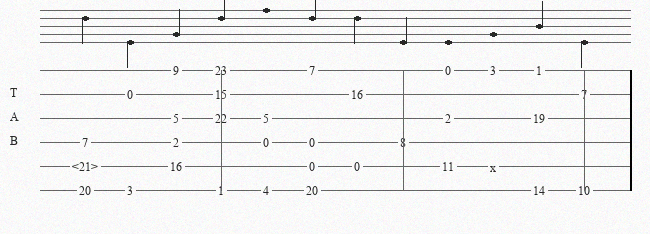0: (127, 88, 137, 101), (263, 136, 273, 149), (309, 160, 319, 173), (309, 136, 319, 149), (354, 160, 364, 173), (445, 64, 455, 77)
1: (218, 184, 228, 197), (536, 64, 546, 77)
10: (578, 184, 594, 197)
11: (442, 160, 458, 173)
14: (533, 184, 549, 197)
15: (215, 88, 231, 101)
16: (170, 160, 186, 173), (351, 88, 367, 101)
19: (533, 112, 549, 125)
2: (173, 136, 183, 149), (445, 112, 455, 125)
20: (79, 184, 95, 197), (306, 184, 322, 197)
22: (215, 112, 231, 125)
23: (215, 64, 231, 77)
3: (127, 184, 137, 197), (490, 64, 500, 77)
4: (263, 184, 273, 197)
5: (173, 112, 183, 125), (263, 112, 273, 125)
7: (82, 136, 92, 149), (309, 64, 319, 77), (581, 88, 591, 101)
8: (400, 136, 410, 149)
9: (173, 64, 183, 77)
harmonic: (72, 160, 102, 173)
x: (490, 161, 500, 171)
